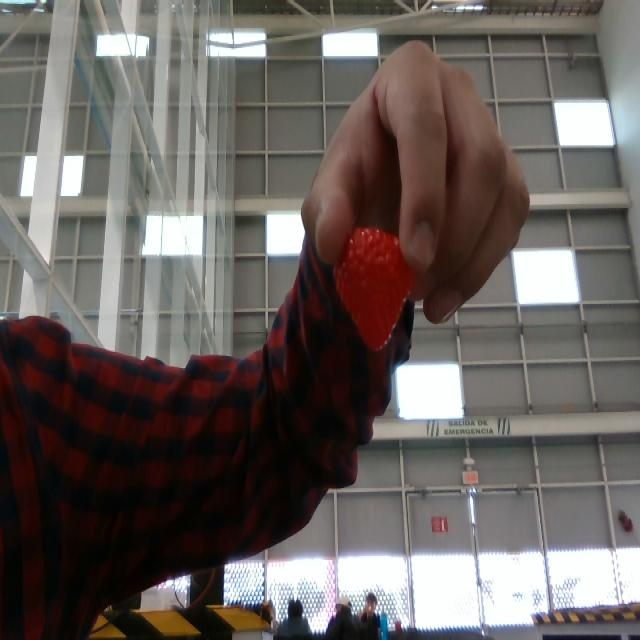chica_roja: (335, 227, 414, 349)
